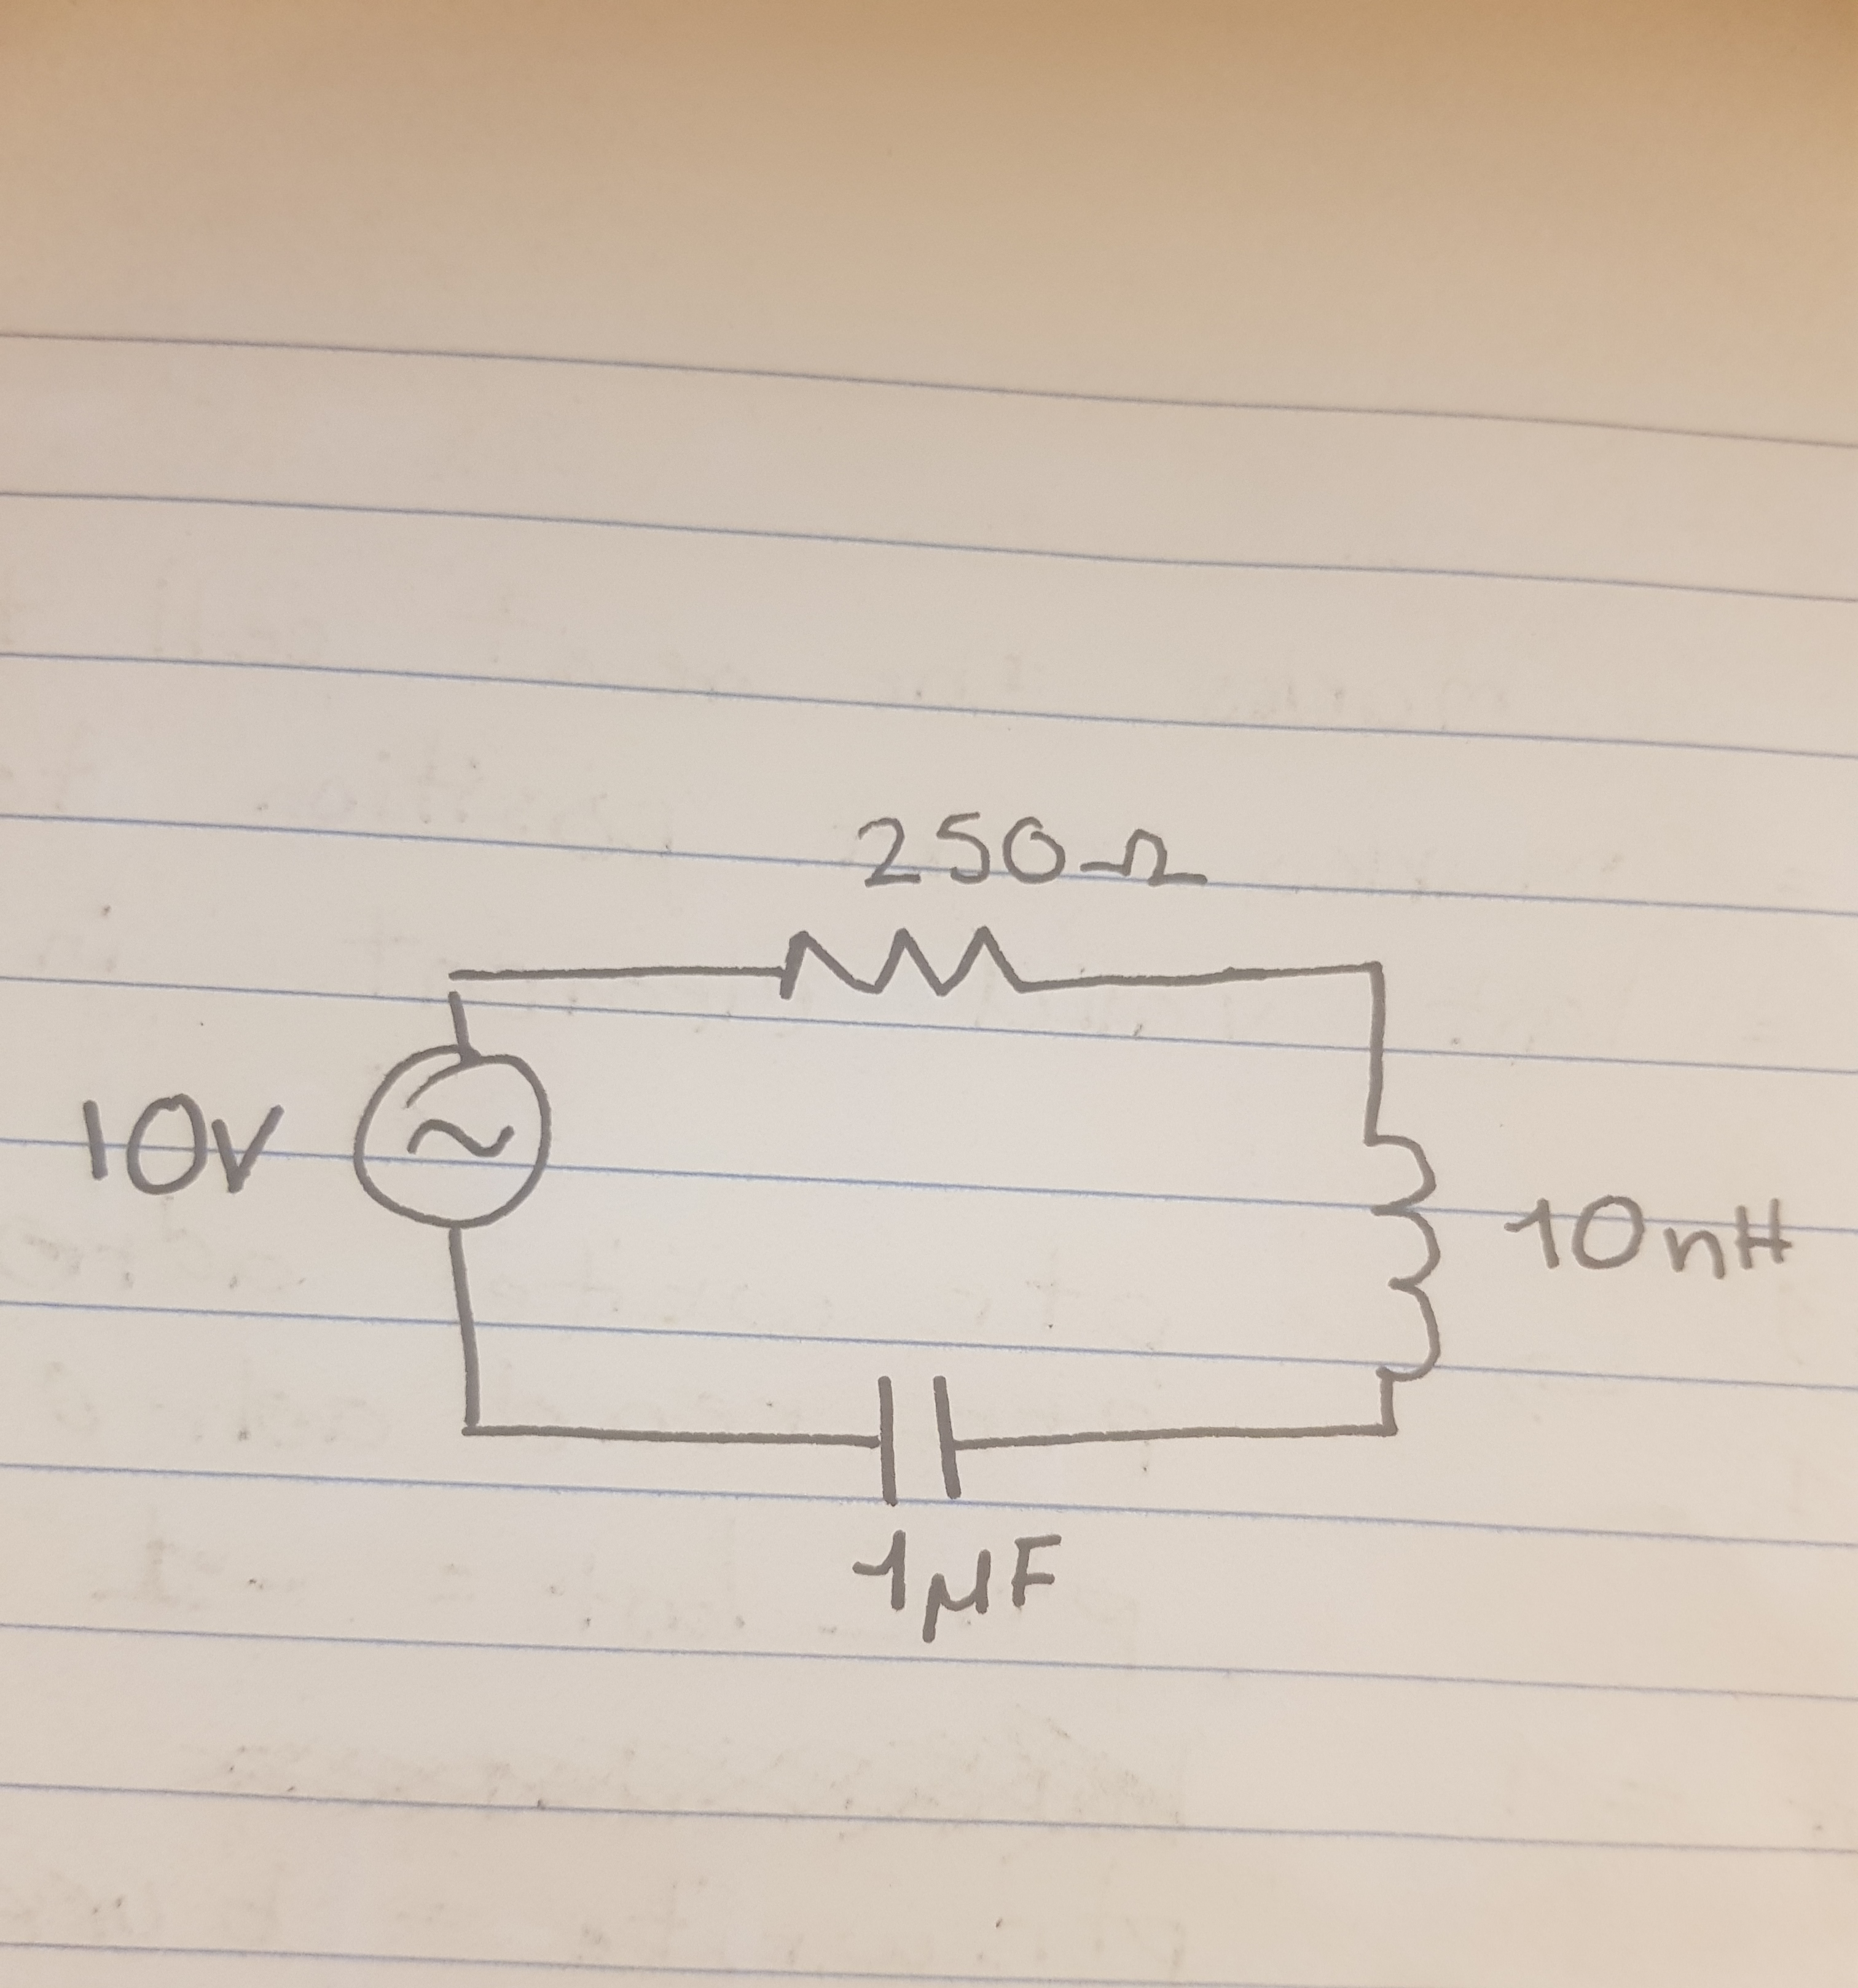capacitor.unpolarized: (856, 1354, 981, 1527)
inductor: (1346, 1096, 1449, 1381)
junction: (435, 960, 484, 1009), (451, 1400, 496, 1452), (1352, 949, 1400, 995), (1364, 1403, 1407, 1450)
resistor: (763, 915, 1043, 1019)
text: (852, 806, 1212, 902), (1497, 1185, 1804, 1295), (73, 1080, 286, 1204), (852, 1531, 1069, 1651)
voltage.dc: (339, 1045, 564, 1241)
